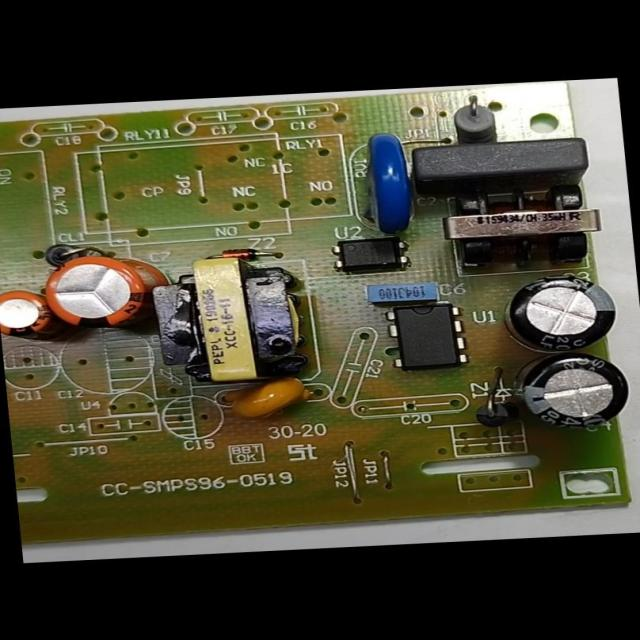Cap1: (37, 244, 174, 338)
Cap2: (0, 286, 63, 345)
Cap3: (498, 270, 624, 354)
Cap4: (515, 343, 640, 435)
MOSFET: (379, 296, 476, 376)
Mov: (354, 128, 425, 238)
Resistor: (442, 87, 506, 148)
Transformer: (142, 247, 319, 396), (432, 170, 606, 284)
